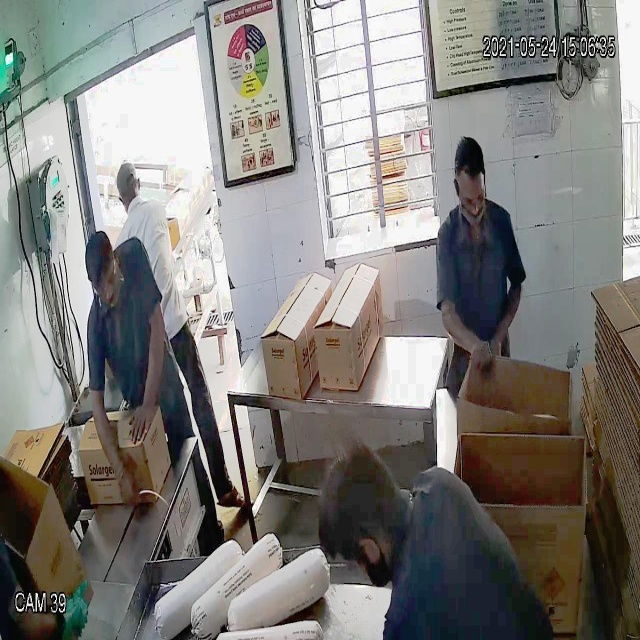Gafas: (452, 181, 492, 215)
